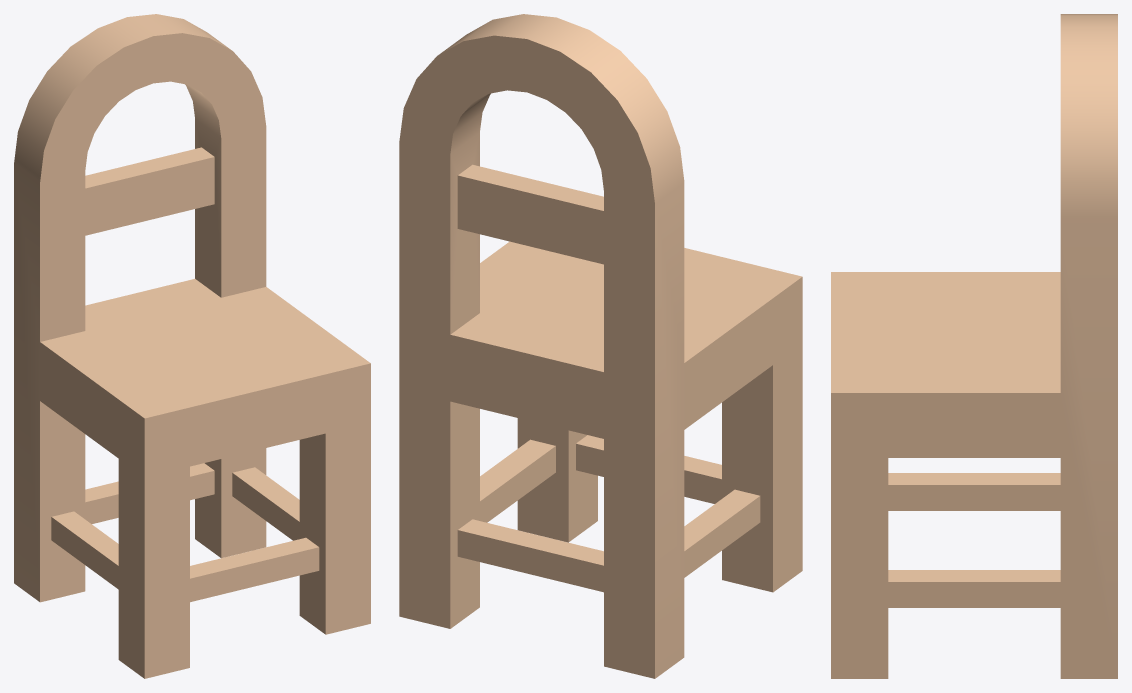
File: chairRounded.glb
The picture shows the model from 3 angles, left to right: view 1: azimuth 30°, elevation 25°; view 2: azimuth 150°, elevation 25°; view 3: azimuth 270°, elevation 25°; orthographic projection. The views are drawn at different scales.
Parts seen in each view (by area): view 1: chairRounded; view 2: chairRounded; view 3: chairRounded.
Boxes of the visible parts, x1,y1,x2,y2 form: chairRounded: (14, 14, 370, 678); chairRounded: (399, 14, 802, 678); chairRounded: (831, 14, 1117, 678).
Bounding box in the file's own units: 0.2 × 0.455 × 0.2.
